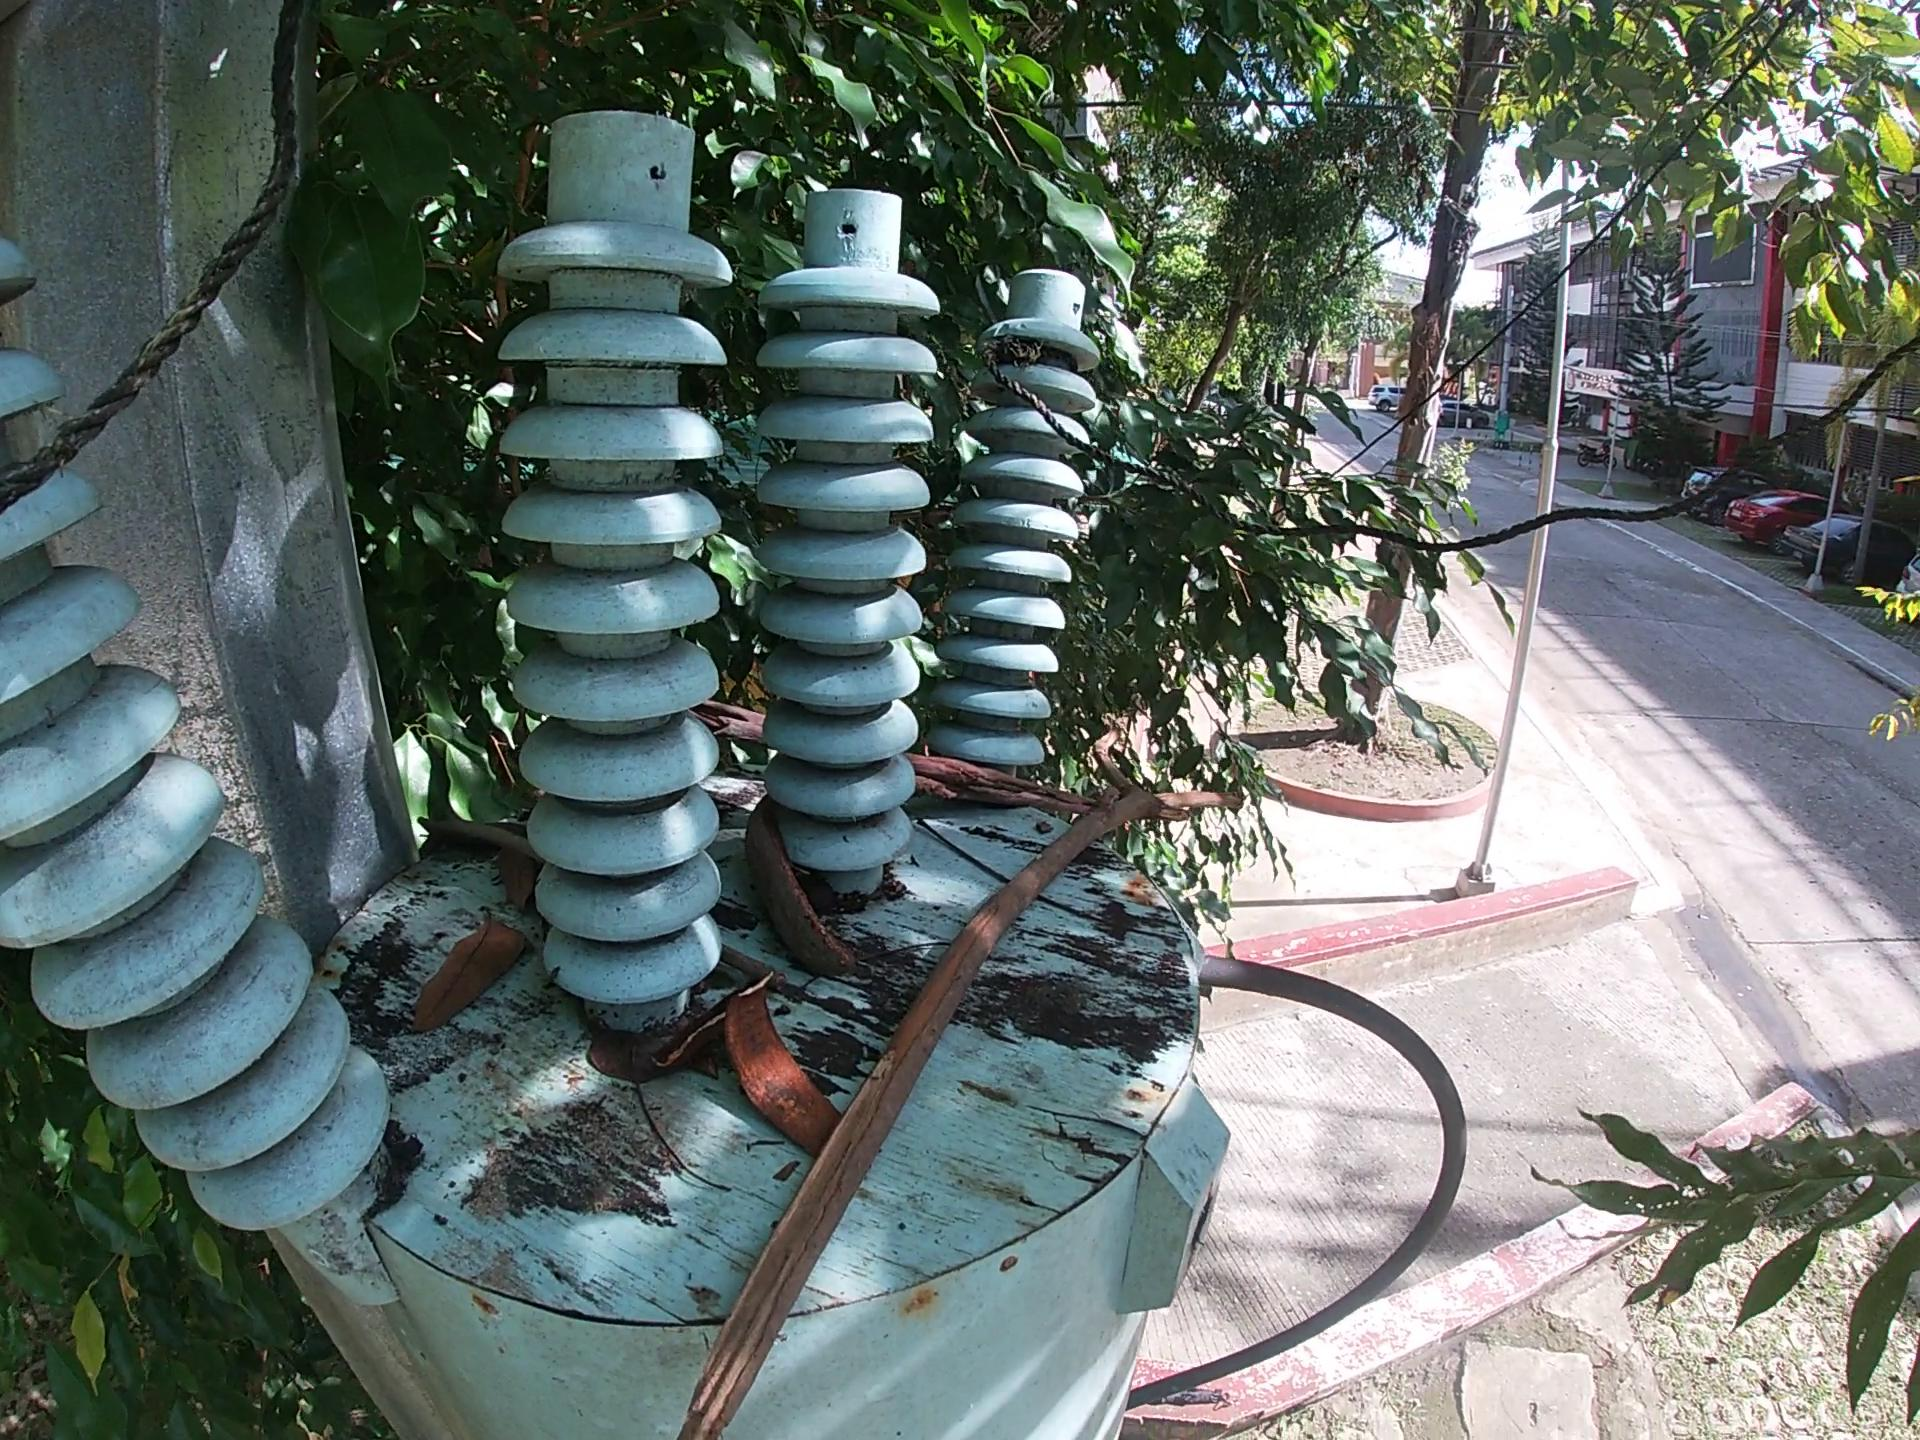leaf: (404, 902, 540, 1038), (582, 1021, 685, 1091), (491, 846, 543, 914)
mahogany fruit: (709, 967, 847, 1159), (732, 787, 865, 979)
tree branch: (671, 712, 1256, 1438), (688, 697, 1098, 818), (402, 805, 540, 861), (717, 945, 788, 988)
